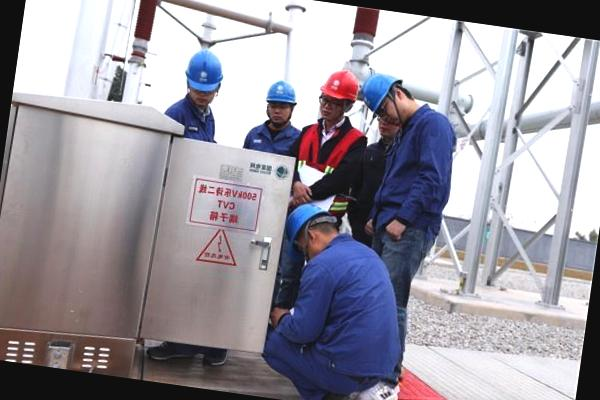helmet: (278, 198, 327, 252), (179, 46, 231, 96), (315, 66, 364, 114), (358, 74, 401, 120), (262, 76, 298, 107)
person: (319, 67, 471, 400), (254, 198, 419, 400), (288, 62, 372, 204), (162, 39, 238, 144), (240, 72, 308, 157)
